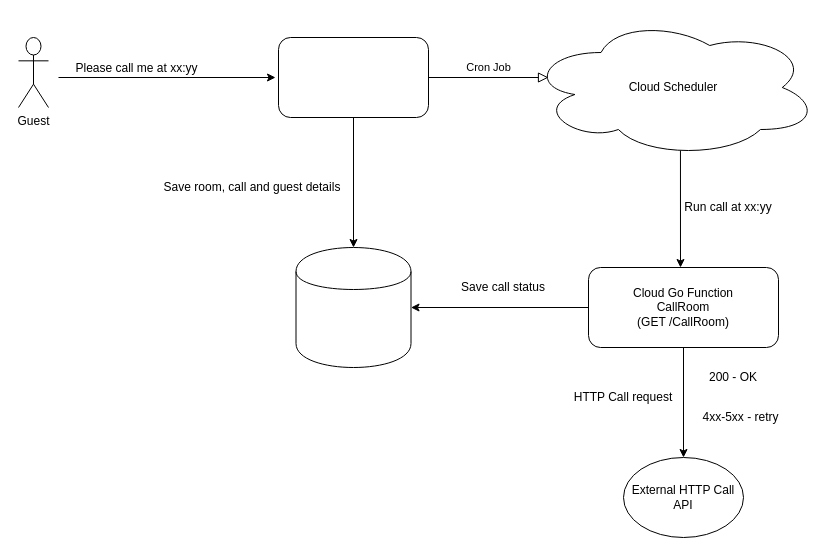
This 836x555 diagram has some shape labels left out. The shapes that lost their labels are listed below. From the top down, each one's centre as x and y in pixels, then its label:
the point at 353,77: Cloud Go Function ScheduleCall ( POST /ScheduleCall )
the point at 353,307: Cloud Postgres
